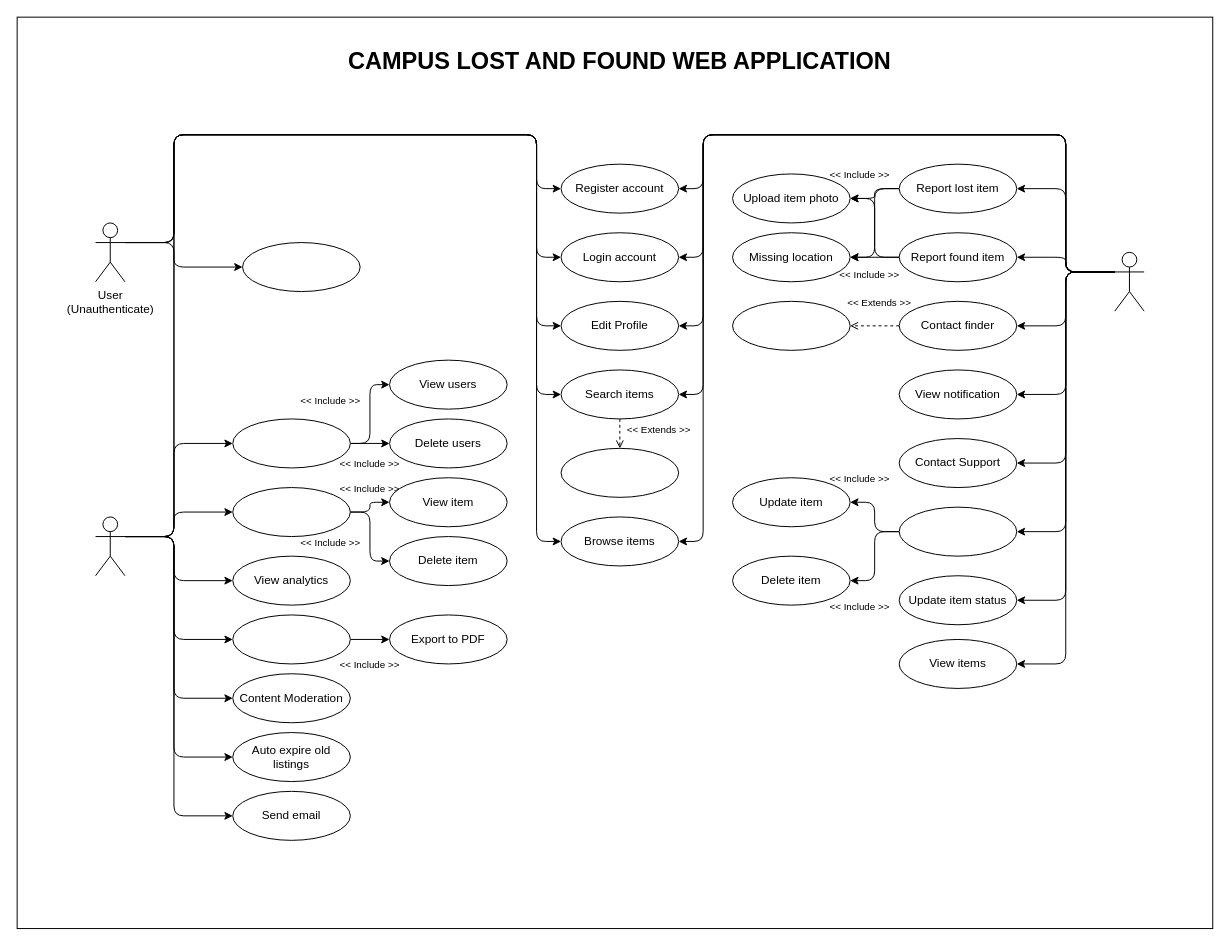
Image size: 1230x946. Some labels were removed from this diagram. Here are the shapes that lost their labels. From the top down, the centre of each, then its label:
the point at 301,267: Browse the page
the point at 1129,281: Student (Authenticated)
the point at 791,325: Anonymous Messaging
the point at 291,443: Manage users
the point at 619,472: Advanced filter
the point at 291,512: Manage all items
the point at 957,531: Manage items
the point at 110,546: Administrator
the point at 291,639: Generate report
